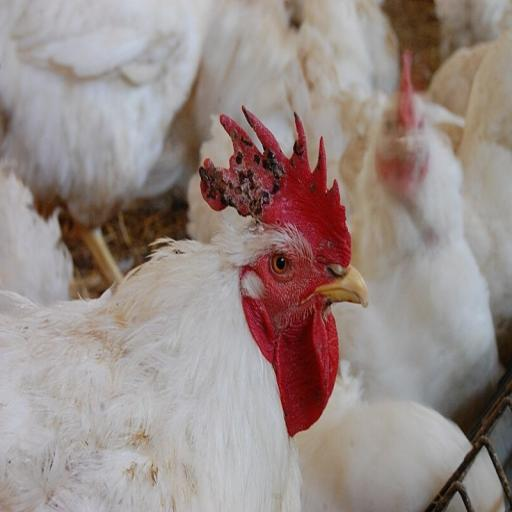disease: (191, 100, 320, 230)
